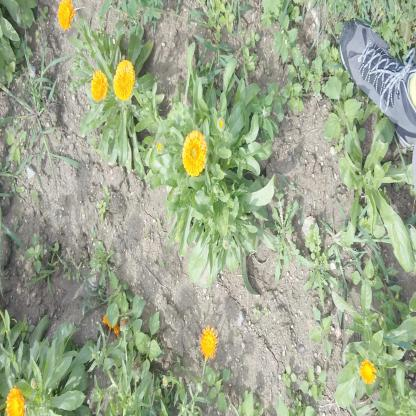marigold: (182, 130, 209, 177), (112, 60, 134, 100), (200, 329, 218, 358), (91, 70, 108, 100), (57, 0, 74, 29), (360, 357, 377, 386)
